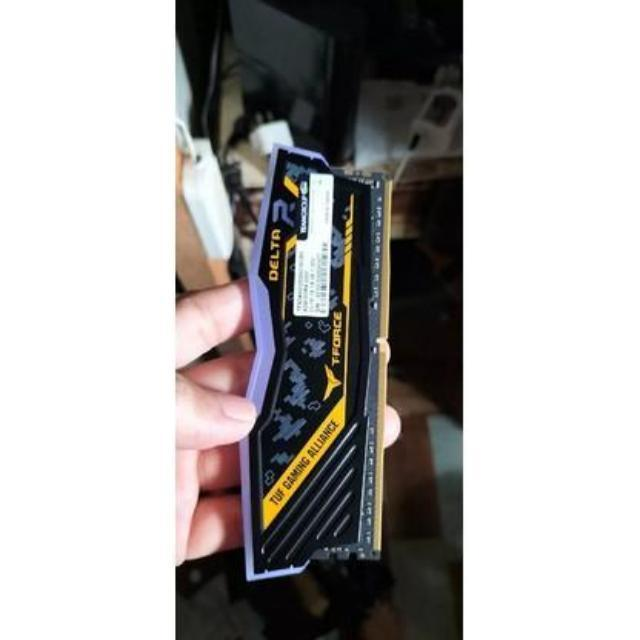RAM: (227, 127, 395, 575)
